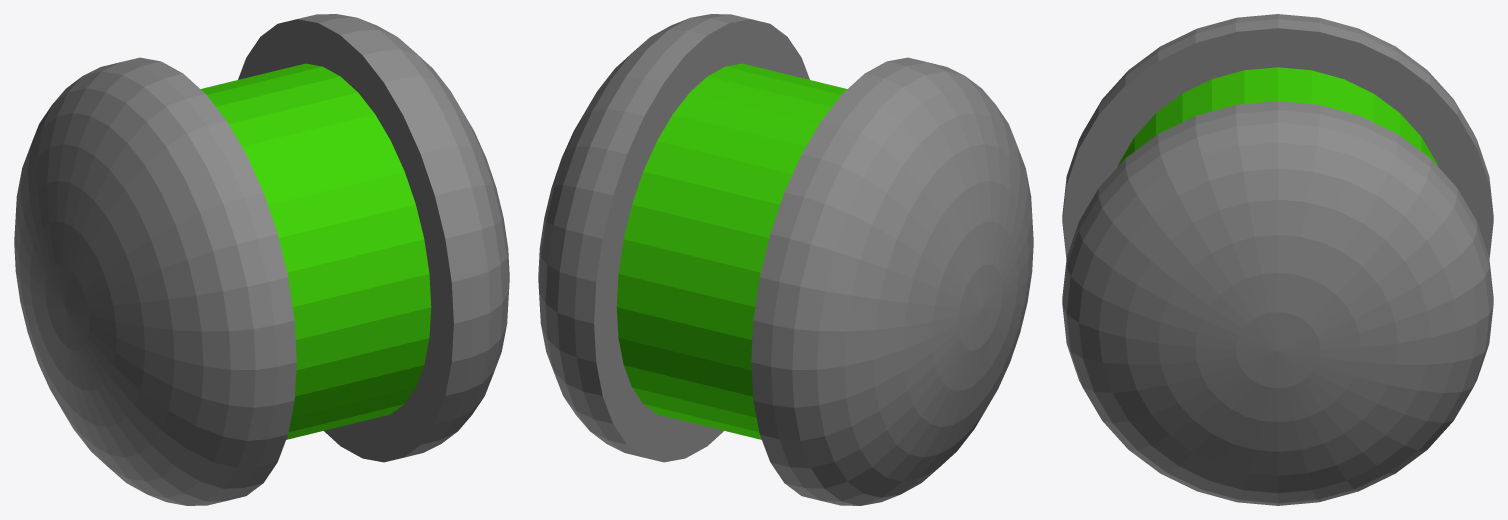
The model's file is PoisonMod.fbx.
3 renders of one model, left to right at view 1: azimuth 30°, elevation 25°; view 2: azimuth 150°, elevation 25°; view 3: azimuth 270°, elevation 25°, orthographic. The views are drawn at different scales.
Visible parts, largest first — view 1: Sphere.002; view 2: Sphere.002; view 3: Sphere.002.
Boxes of the visible parts, x1,y1,x2,y2 form: Sphere.002: (14, 14, 509, 505); Sphere.002: (538, 14, 1033, 505); Sphere.002: (1062, 14, 1493, 505).
Size of the model in its own units: 20 by 20 by 20.
